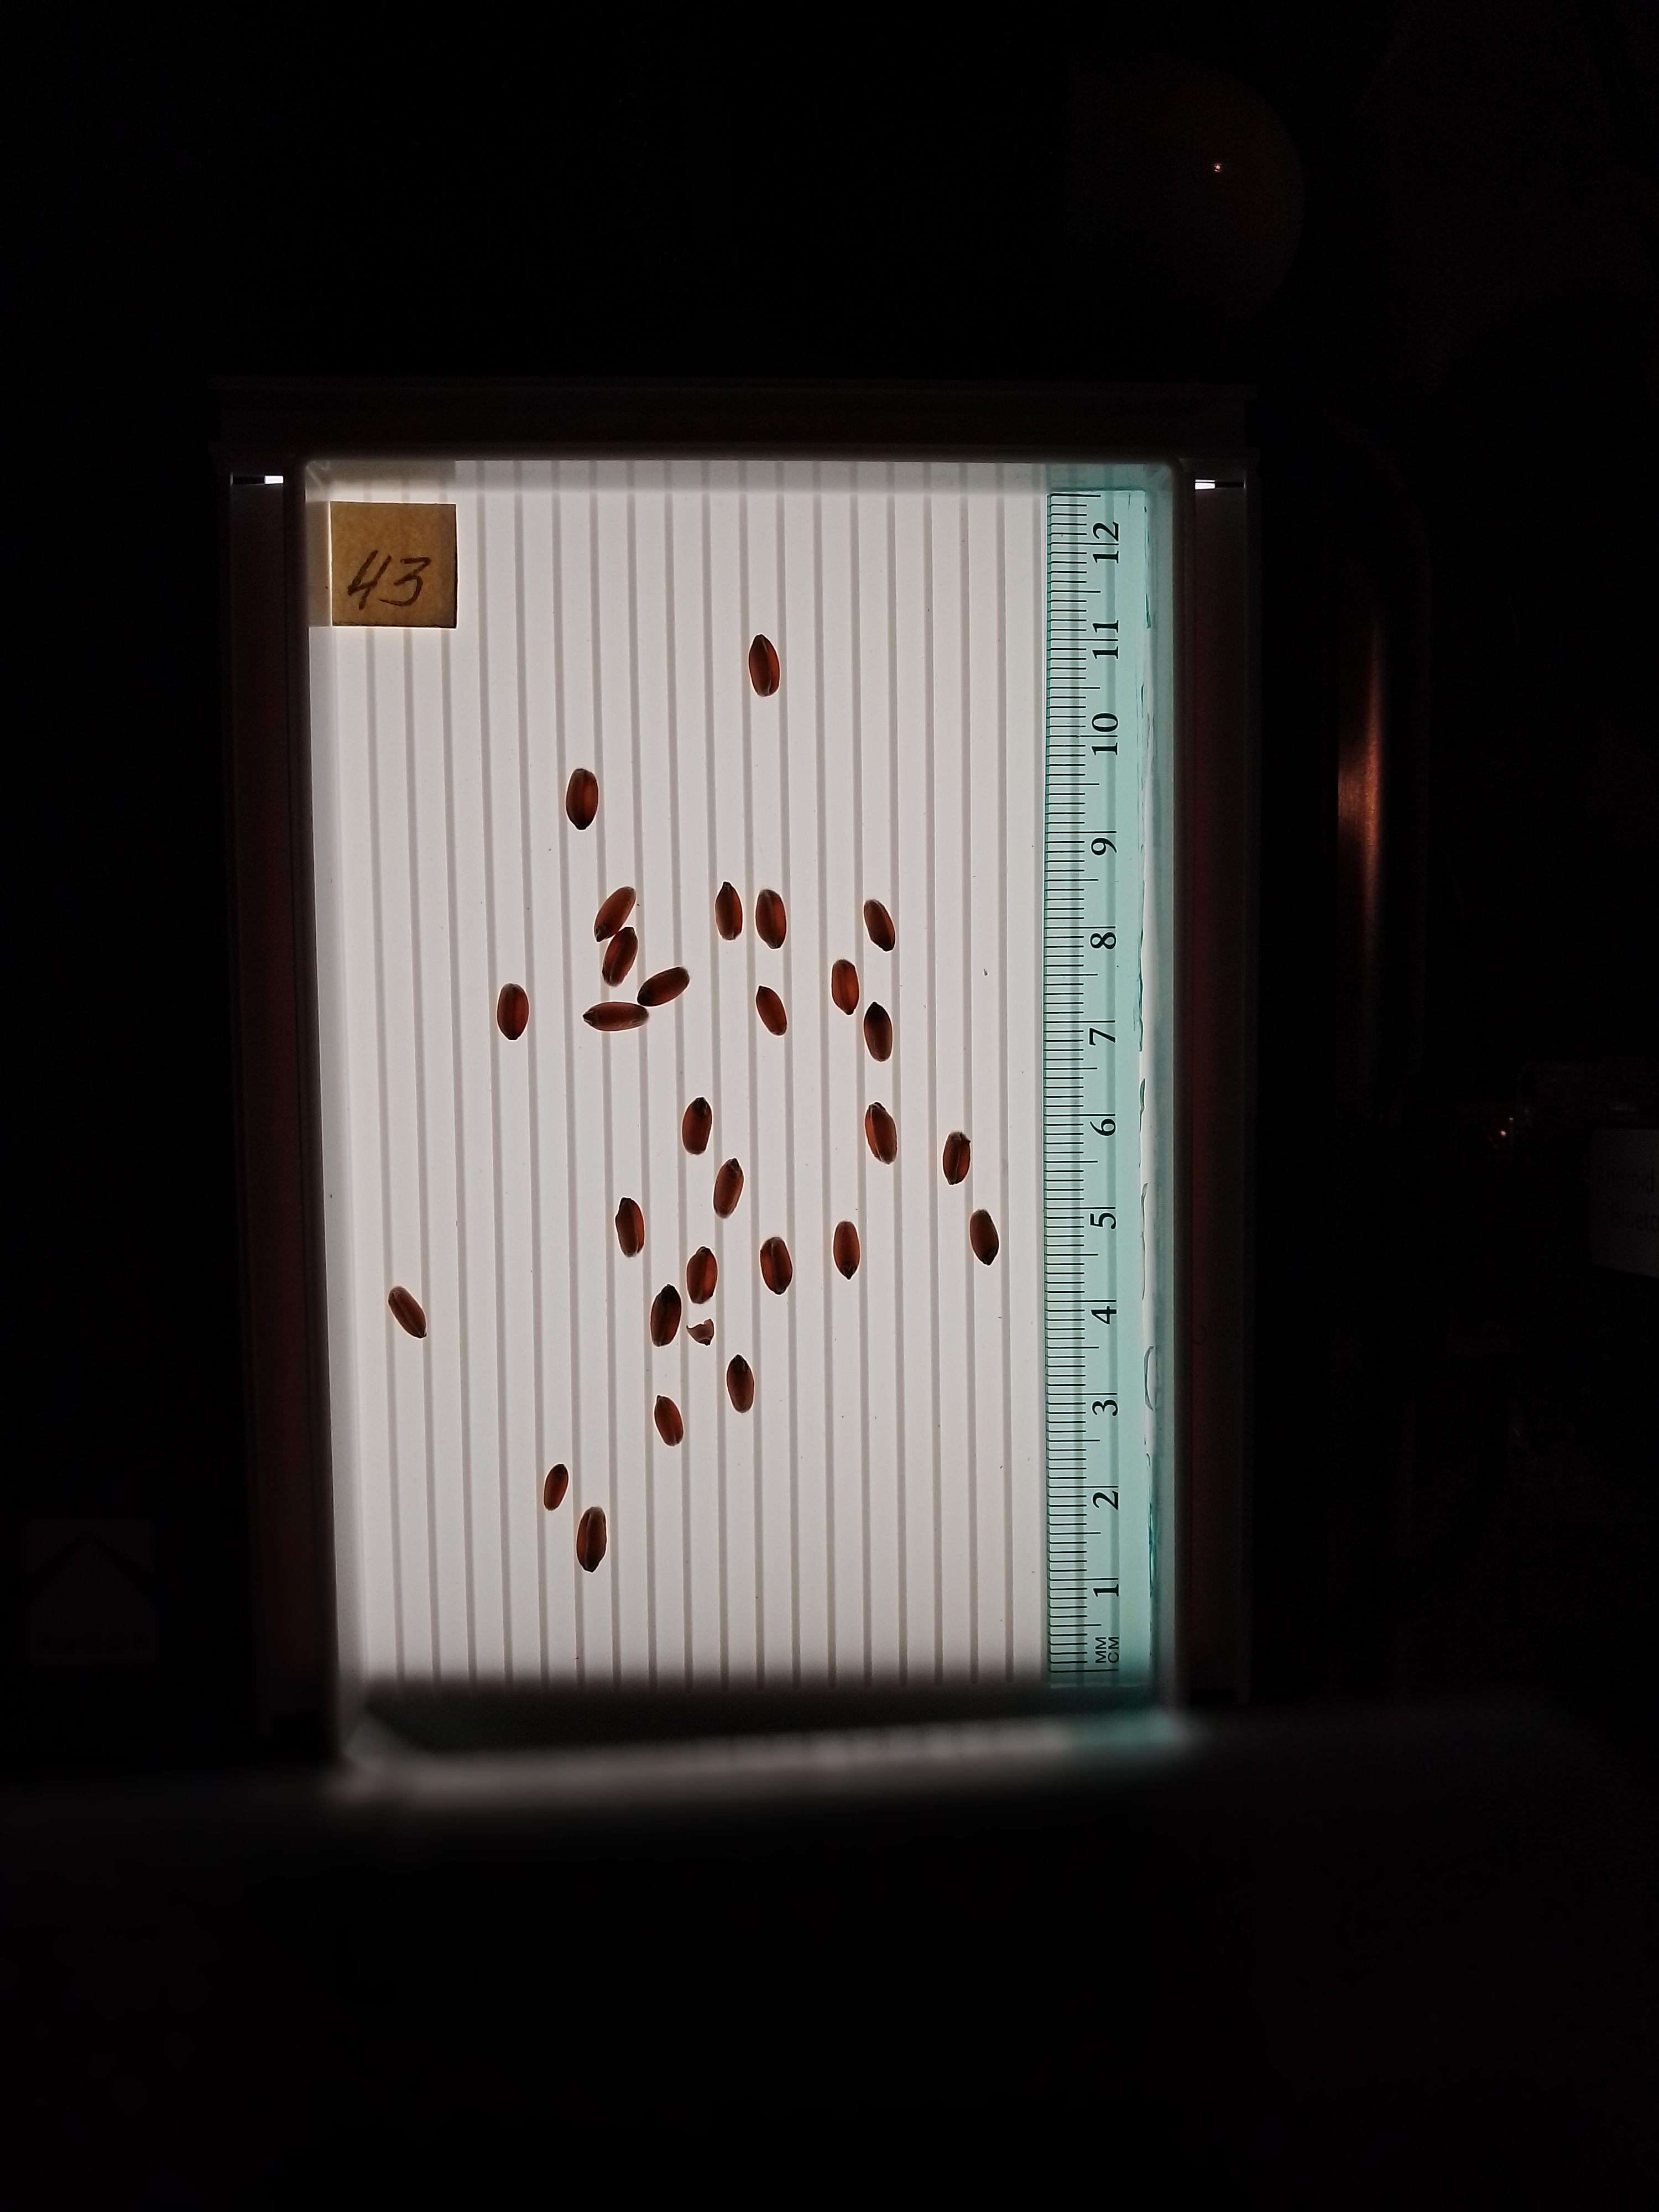seed mask: (593, 887, 635, 942), (602, 927, 638, 985), (565, 766, 598, 830), (650, 1285, 682, 1347), (637, 968, 690, 1005), (388, 1287, 427, 1339), (865, 1103, 897, 1164), (748, 635, 780, 696), (582, 1001, 649, 1030), (760, 1237, 793, 1296), (497, 984, 530, 1041), (686, 1248, 718, 1305), (755, 889, 785, 949), (713, 1160, 744, 1218), (681, 1098, 713, 1154), (615, 1198, 645, 1257), (863, 1002, 893, 1061), (864, 900, 896, 951), (970, 1210, 999, 1266), (726, 1355, 754, 1412), (756, 985, 787, 1036), (715, 883, 743, 941), (832, 1222, 860, 1280), (655, 1395, 685, 1447), (942, 1131, 971, 1185), (831, 960, 859, 1015), (686, 1320, 713, 1345)
